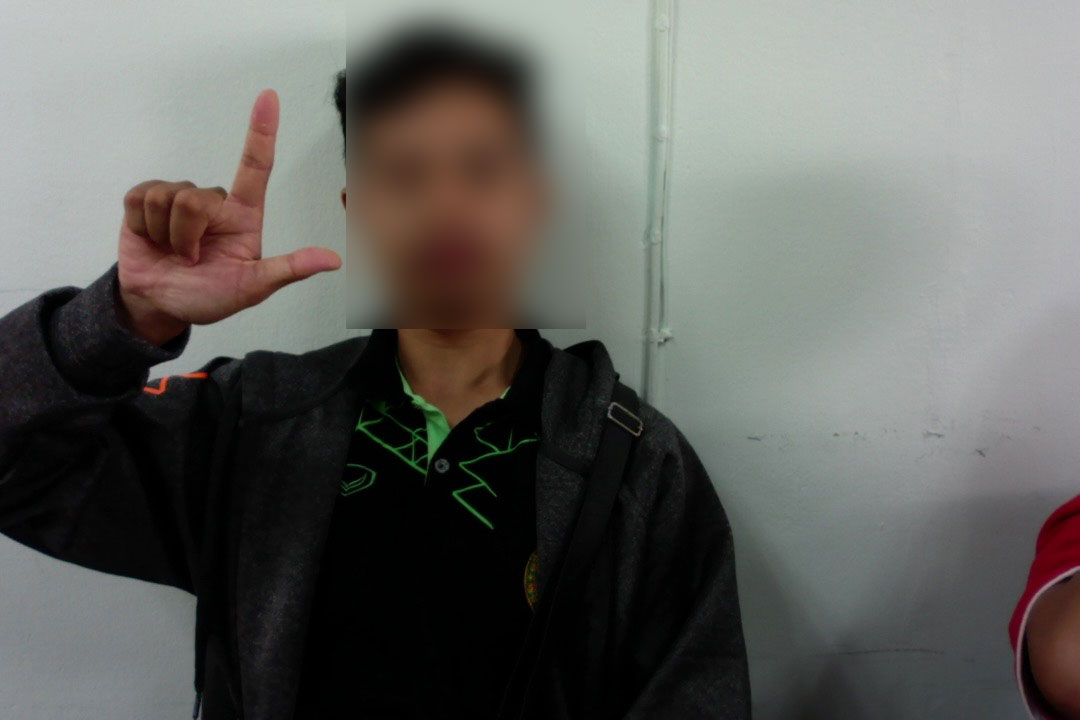lor: (65, 72, 346, 322)
